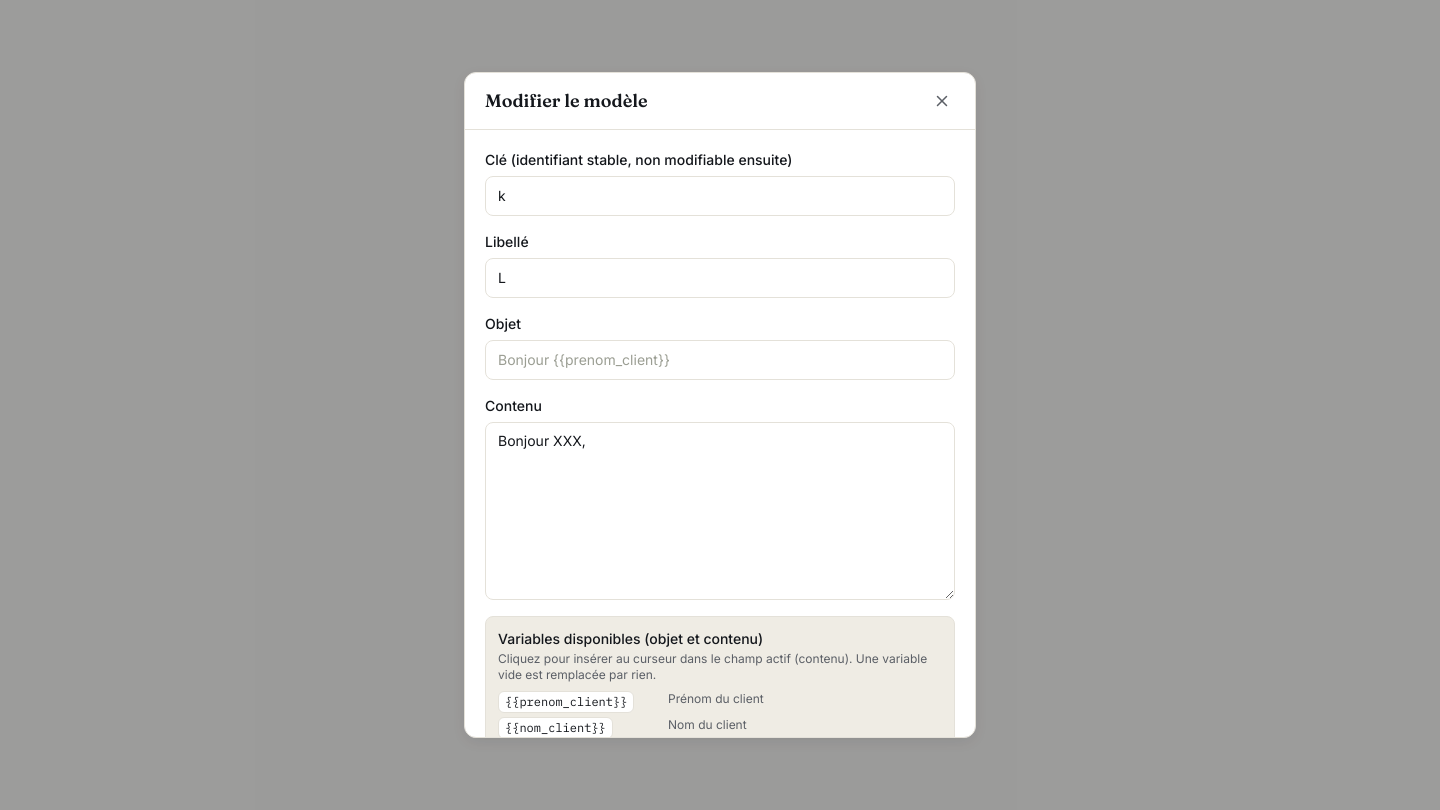
Test: EmailTemplateFormModal — variables disponibles › une sélection est remplacée par la variable
The image size is (1440, 810).
Click the button "{{prenom_client}}" at point(566, 702), box x1=498 y1=691 x2=634 y2=713
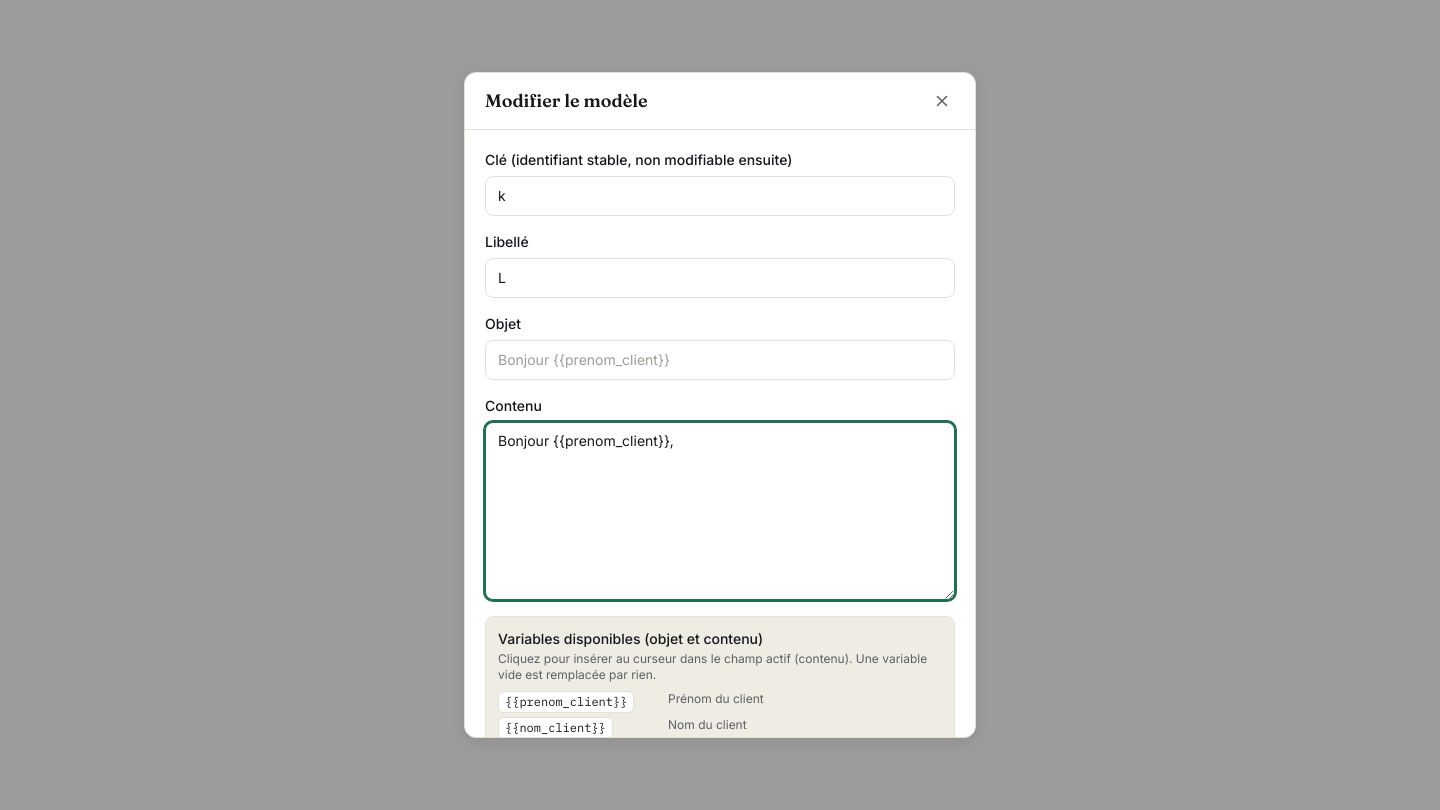
Now the text box labelled "Contenu" holds "Bonjour {{prenom_client}},", box x1=485 y1=422 x2=955 y2=600
